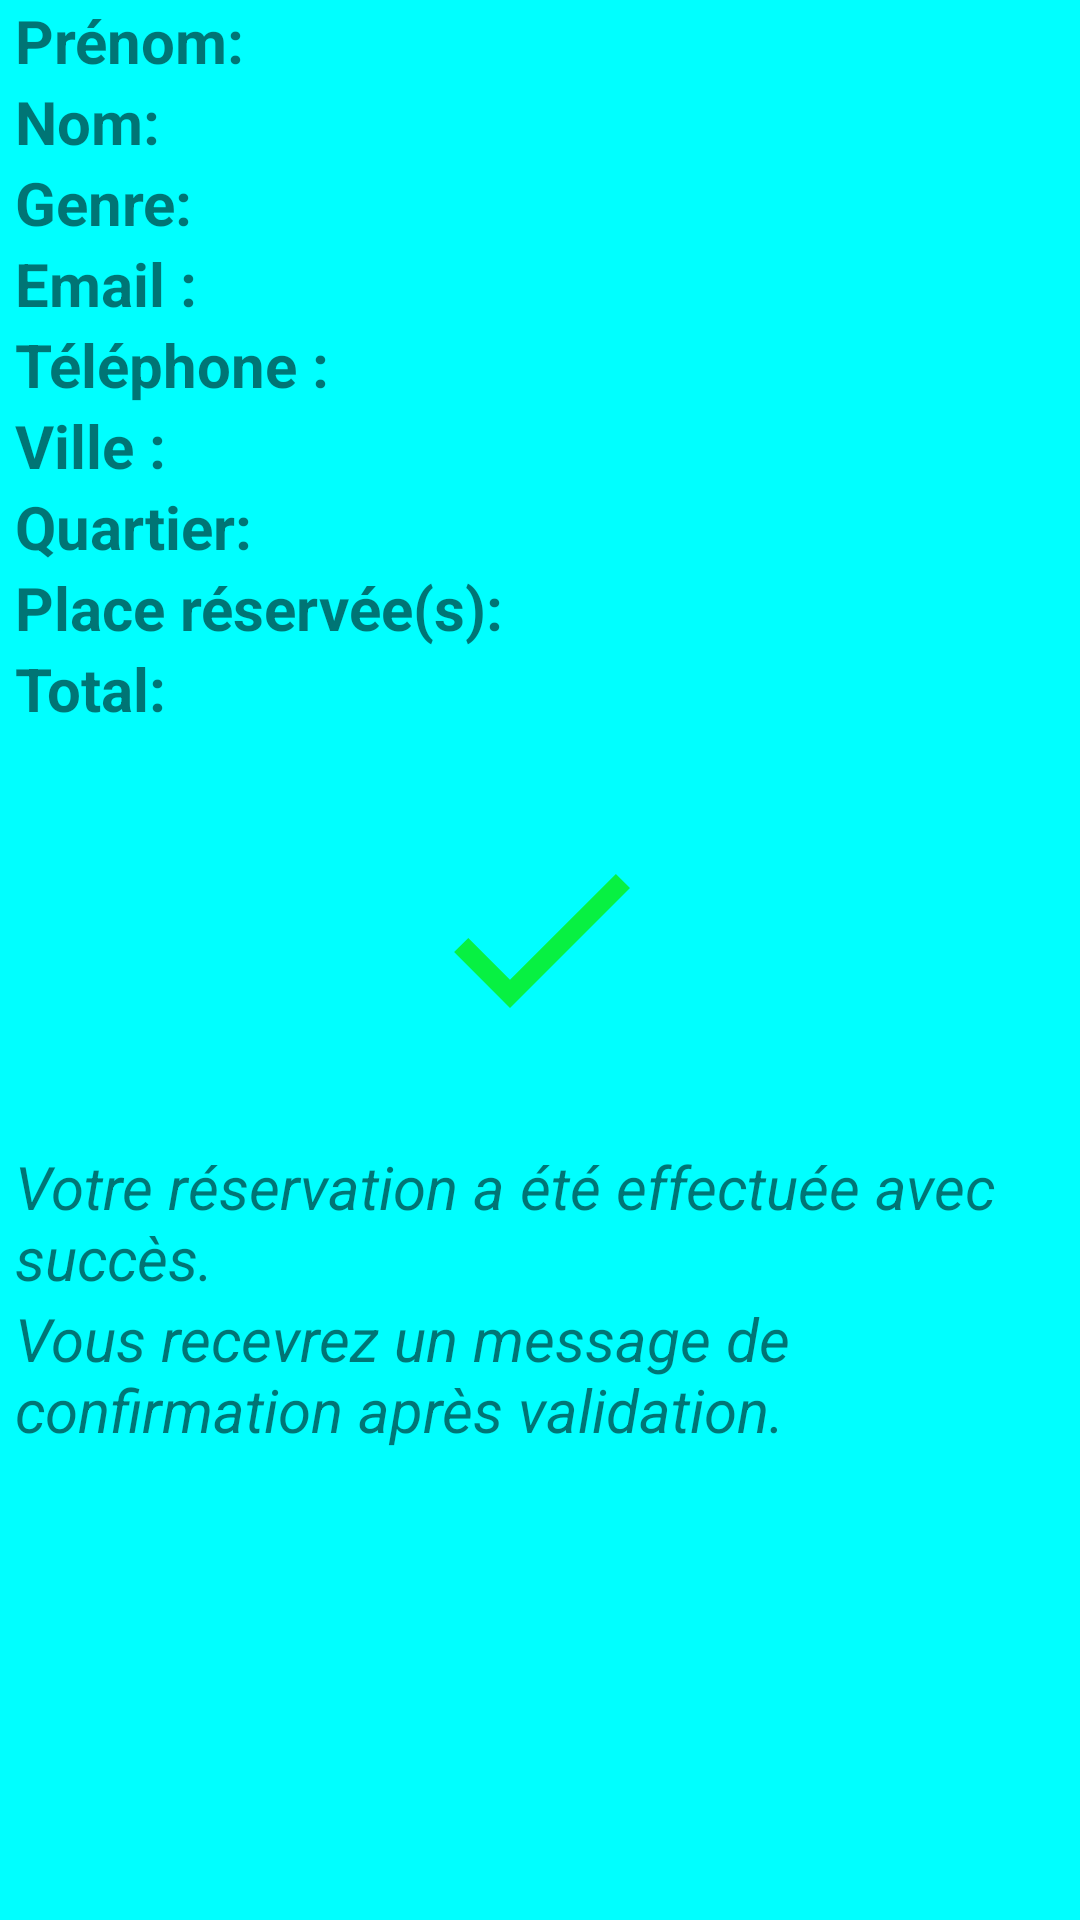

Where to tap for icons on this 1080 x 1920 app screen, as (x=x, y=y):
check: (x=542, y=941)
